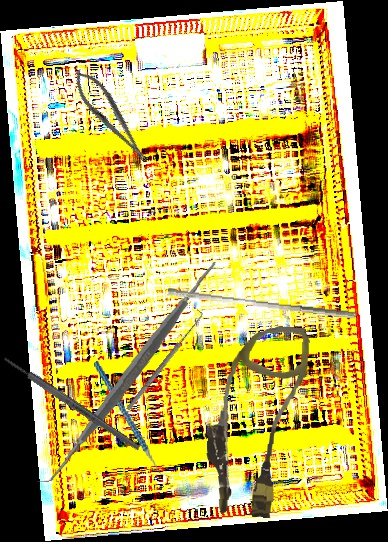Cannula: (201, 320, 311, 521)
Chopper: (93, 351, 173, 490)
Hook Surgical: (122, 309, 206, 412)
Needle Holder: (65, 63, 156, 170)
Pusher: (166, 287, 358, 320)
Scalpel Handle: (1, 354, 142, 453)
Spatula Surgical: (25, 260, 240, 483)
